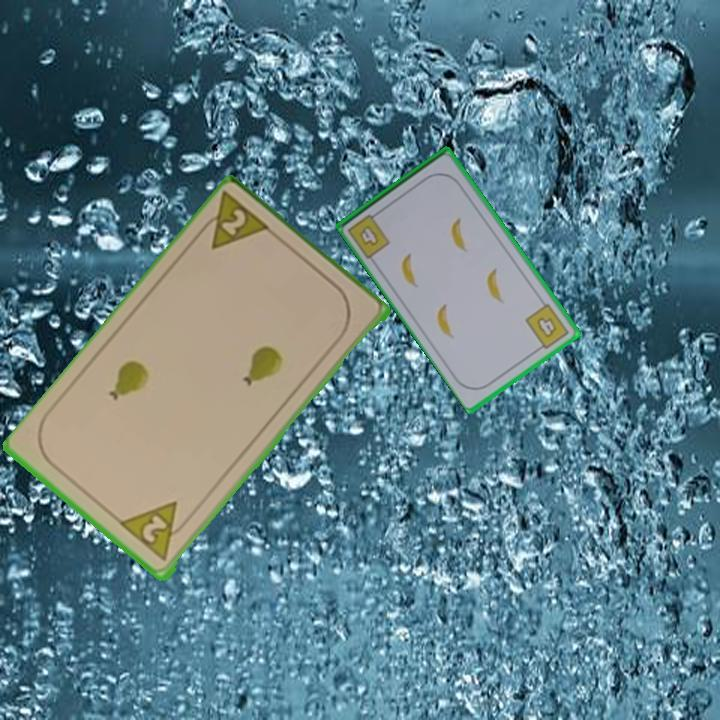2p: (192, 189, 275, 254), (117, 498, 194, 565)
4b: (521, 299, 572, 354), (344, 207, 393, 261)
